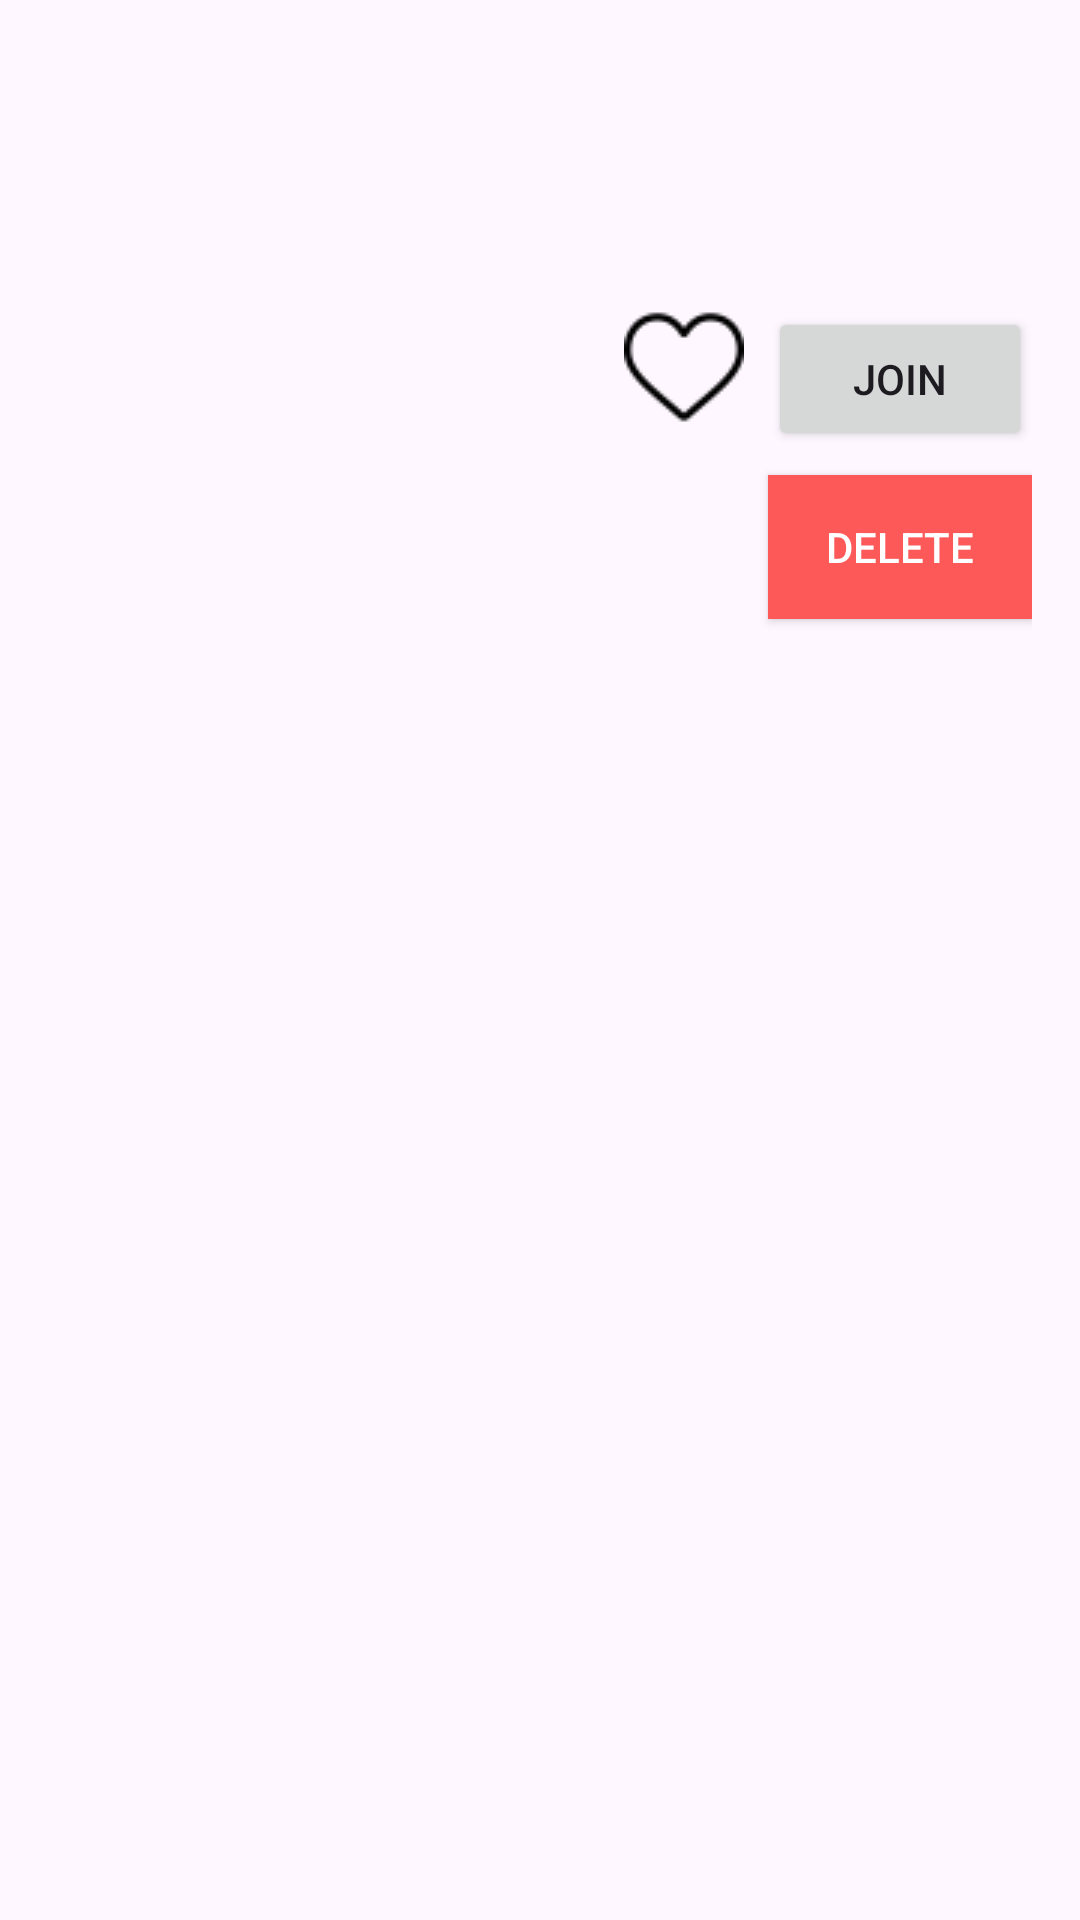

Where to tap for icons on this 1080px x 1920px app screen, as (x=x, y=y):
Favorite: (x=684, y=367)
